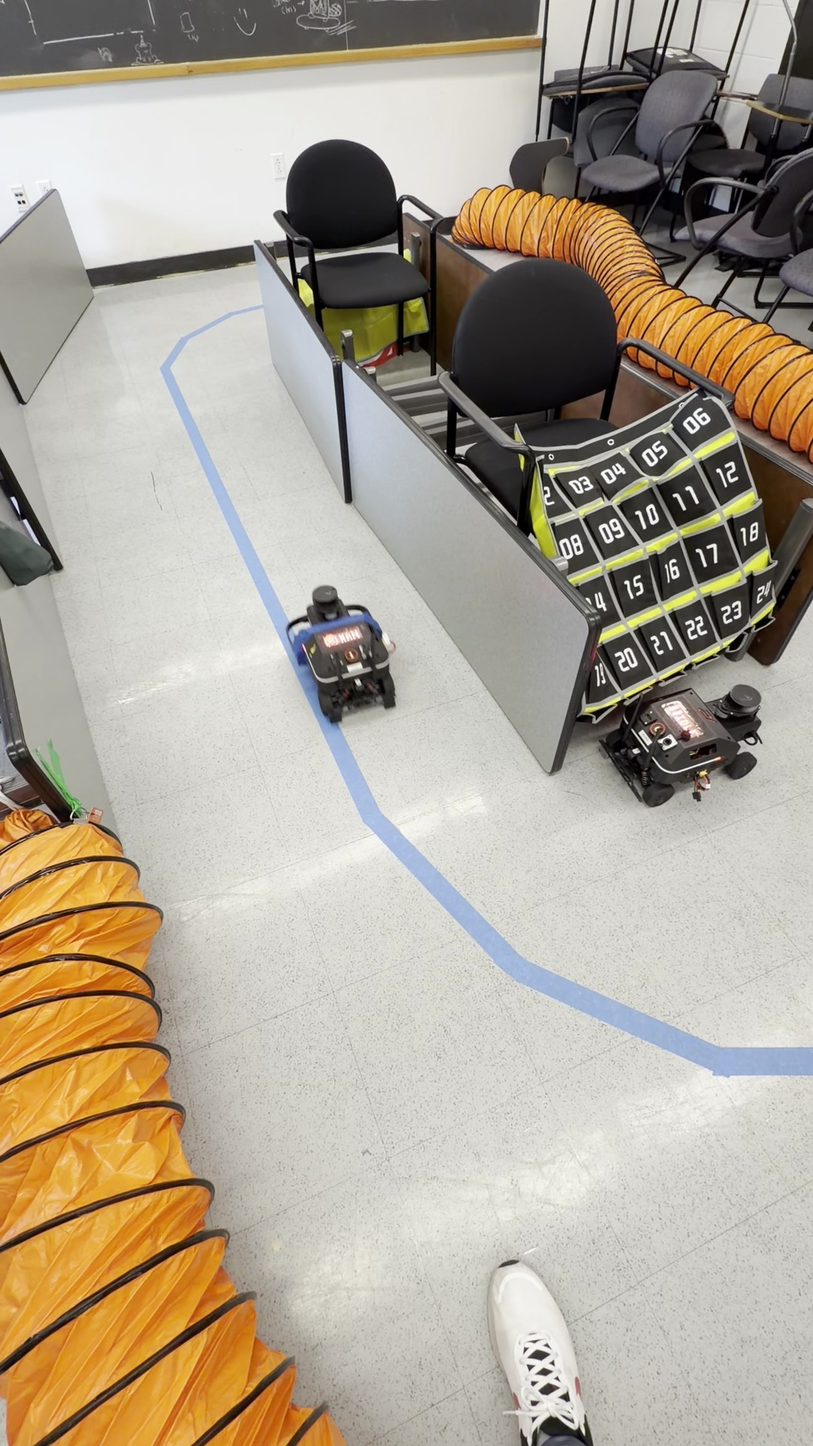racecar: (600, 680, 760, 807), (284, 587, 396, 720)
